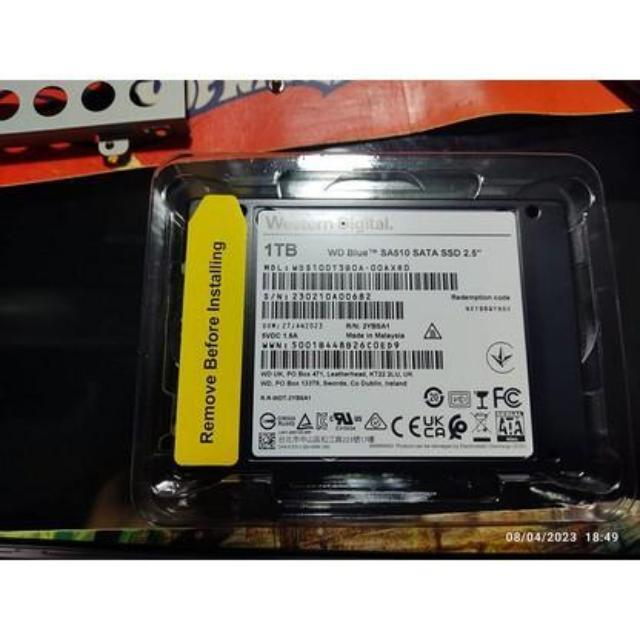DISK: (190, 197, 585, 485)
